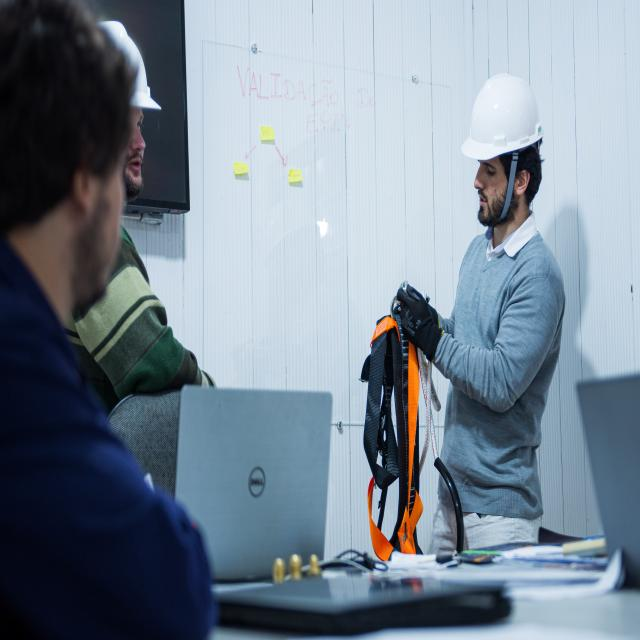capacete: (459, 71, 546, 162)
luva: (396, 283, 446, 368)
